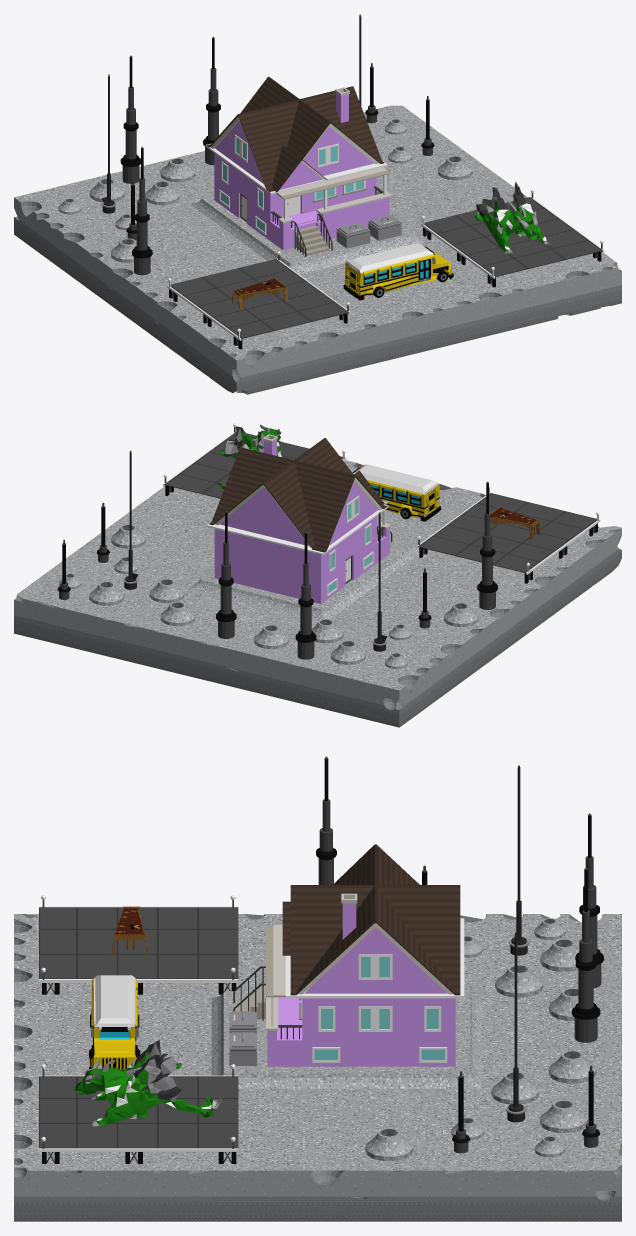
The picture shows the model from 3 angles, top to bottom: view 1: azimuth 30°, elevation 25°; view 2: azimuth 150°, elevation 25°; view 3: azimuth 270°, elevation 25°; orthographic projection. The views are drawn at different scales.
Parts seen in each view (by area): view 1: Cube.027, Cube.391, Cube.025, Cube.026, Cube.028, VEHICLES_SCHOOL_BUS, ANIMAL_DRAGON, Cylinder.020, Cylinder.021, Cylinder.017, OBJRANDOM_MARIMBA, Cube.029 (+5 smaller); view 2: Cube.027, Cube.391, Cube.025, Cube.028, VEHICLES_SCHOOL_BUS, Cube.026, Cylinder.020, Cylinder.021, Cylinder.017, ANIMAL_DRAGON, OBJRANDOM_MARIMBA, Cylinder.031 (+9 smaller); view 3: Cube.027, Cube.391, Cube.025, Cube.026, Cube.028, ANIMAL_DRAGON, VEHICLES_SCHOOL_BUS, Cylinder.017, Cylinder.020, Cylinder.021, Cylinder.033, Cylinder.031 (+11 smaller).
Boxes of the visible parts, <box> form: Cube.027: <box>14,105,621,394</box>; Cube.391: <box>205,76,392,256</box>; Cube.025: <box>167,251,350,349</box>; Cube.026: <box>421,189,604,287</box>; Cube.028: <box>191,195,424,274</box>; VEHICLES_SCHOOL_BUS: <box>343,243,453,300</box>; ANIMAL_DRAGON: <box>475,181,550,253</box>; Cylinder.020: <box>120,55,140,183</box>; Cylinder.021: <box>132,146,152,275</box>; Cylinder.017: <box>203,36,220,164</box>; OBJRANDOM_MARIMBA: <box>232,277,287,309</box>; Cube.029: <box>336,222,370,248</box>; Cube.027: <box>14,460,621,727</box>; Cube.391: <box>206,434,392,603</box>; Cube.025: <box>417,485,600,583</box>; Cube.028: <box>190,538,419,620</box>; VEHICLES_SCHOOL_BUS: <box>352,464,440,521</box>; Cube.026: <box>163,423,346,498</box>; Cylinder.020: <box>295,531,316,659</box>; Cylinder.021: <box>477,481,497,609</box>; Cylinder.017: <box>216,510,236,638</box>; ANIMAL_DRAGON: <box>218,424,284,488</box>; OBJRANDOM_MARIMBA: <box>490,507,540,539</box>; Cylinder.031: <box>89,581,124,605</box>; Cube.027: <box>14,914,621,1221</box>; Cube.391: <box>233,844,464,1066</box>; Cube.025: <box>39,895,238,994</box>; Cube.026: <box>39,1064,238,1163</box>; Cube.028: <box>211,991,481,1088</box>; ANIMAL_DRAGON: <box>74,1040,221,1126</box>; VEHICLES_SCHOOL_BUS: <box>89,975,140,1070</box>; Cylinder.017: <box>571,867,600,1042</box>; Cylinder.020: <box>575,813,603,988</box>; Cylinder.021: <box>316,756,336,884</box>; Cylinder.033: <box>365,1128,413,1160</box>; Cylinder.031: <box>540,1100,587,1132</box>.
Size of the model in its own units: 4000 by 1803 by 4000.
Materials: 40 (4 with a texture image).
